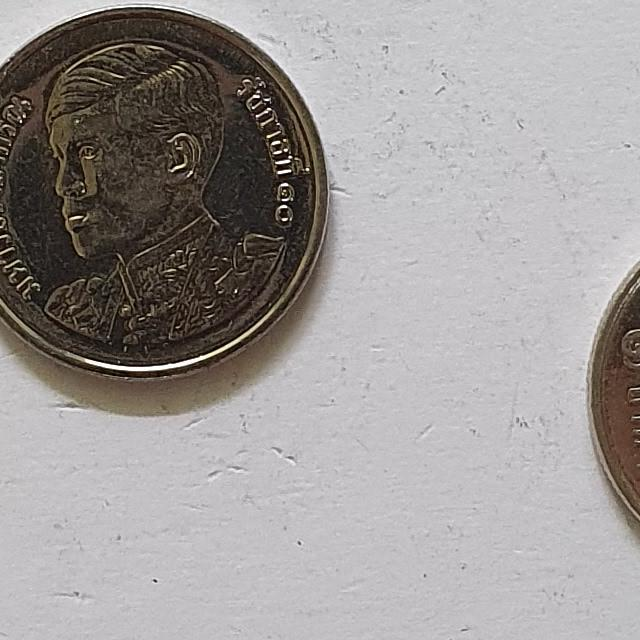1 Bath: (1, 1, 344, 388), (590, 247, 640, 546)
